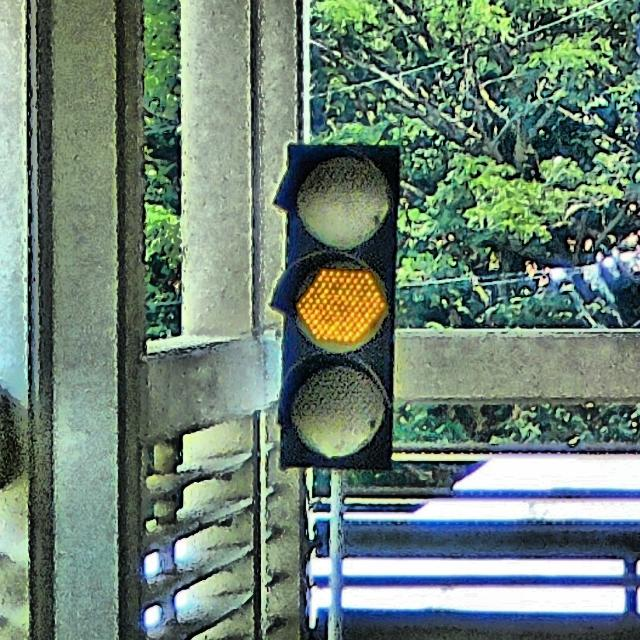yellow: (274, 145, 403, 468)
